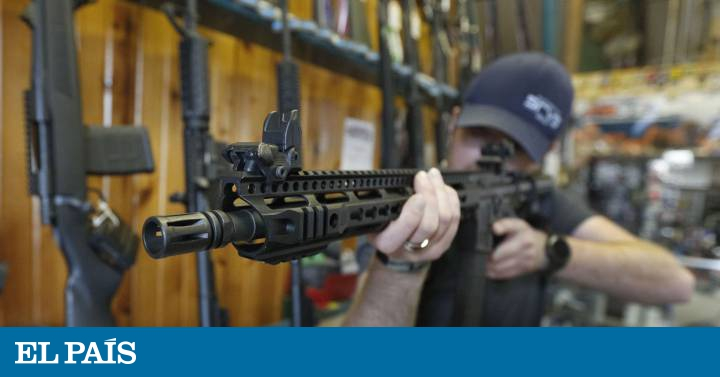Arma Real: (150, 108, 560, 257)
